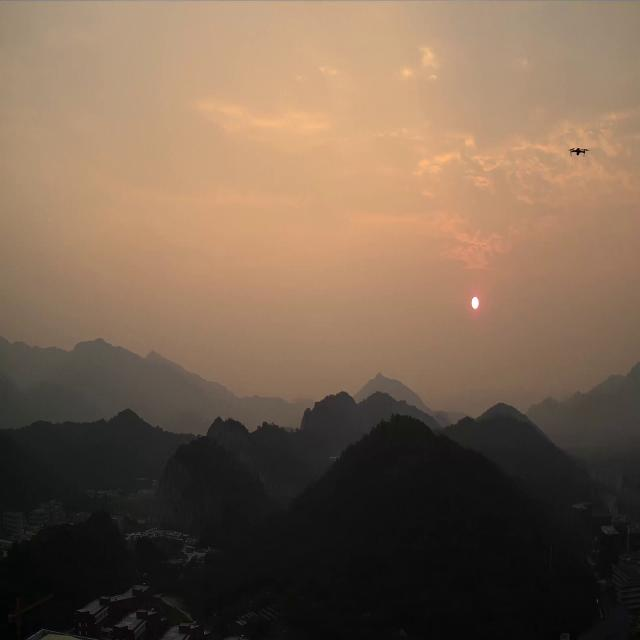UAV: (568, 146, 590, 158)
